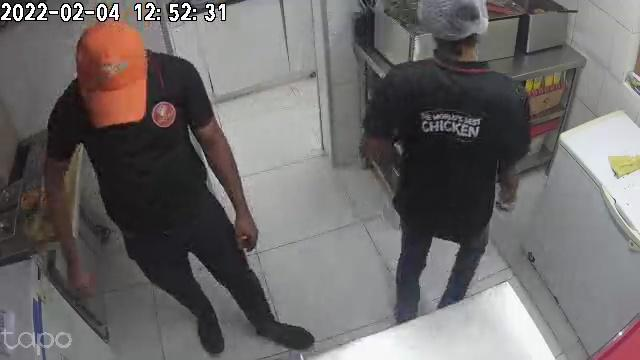no_gloves: (231, 202, 258, 251)
